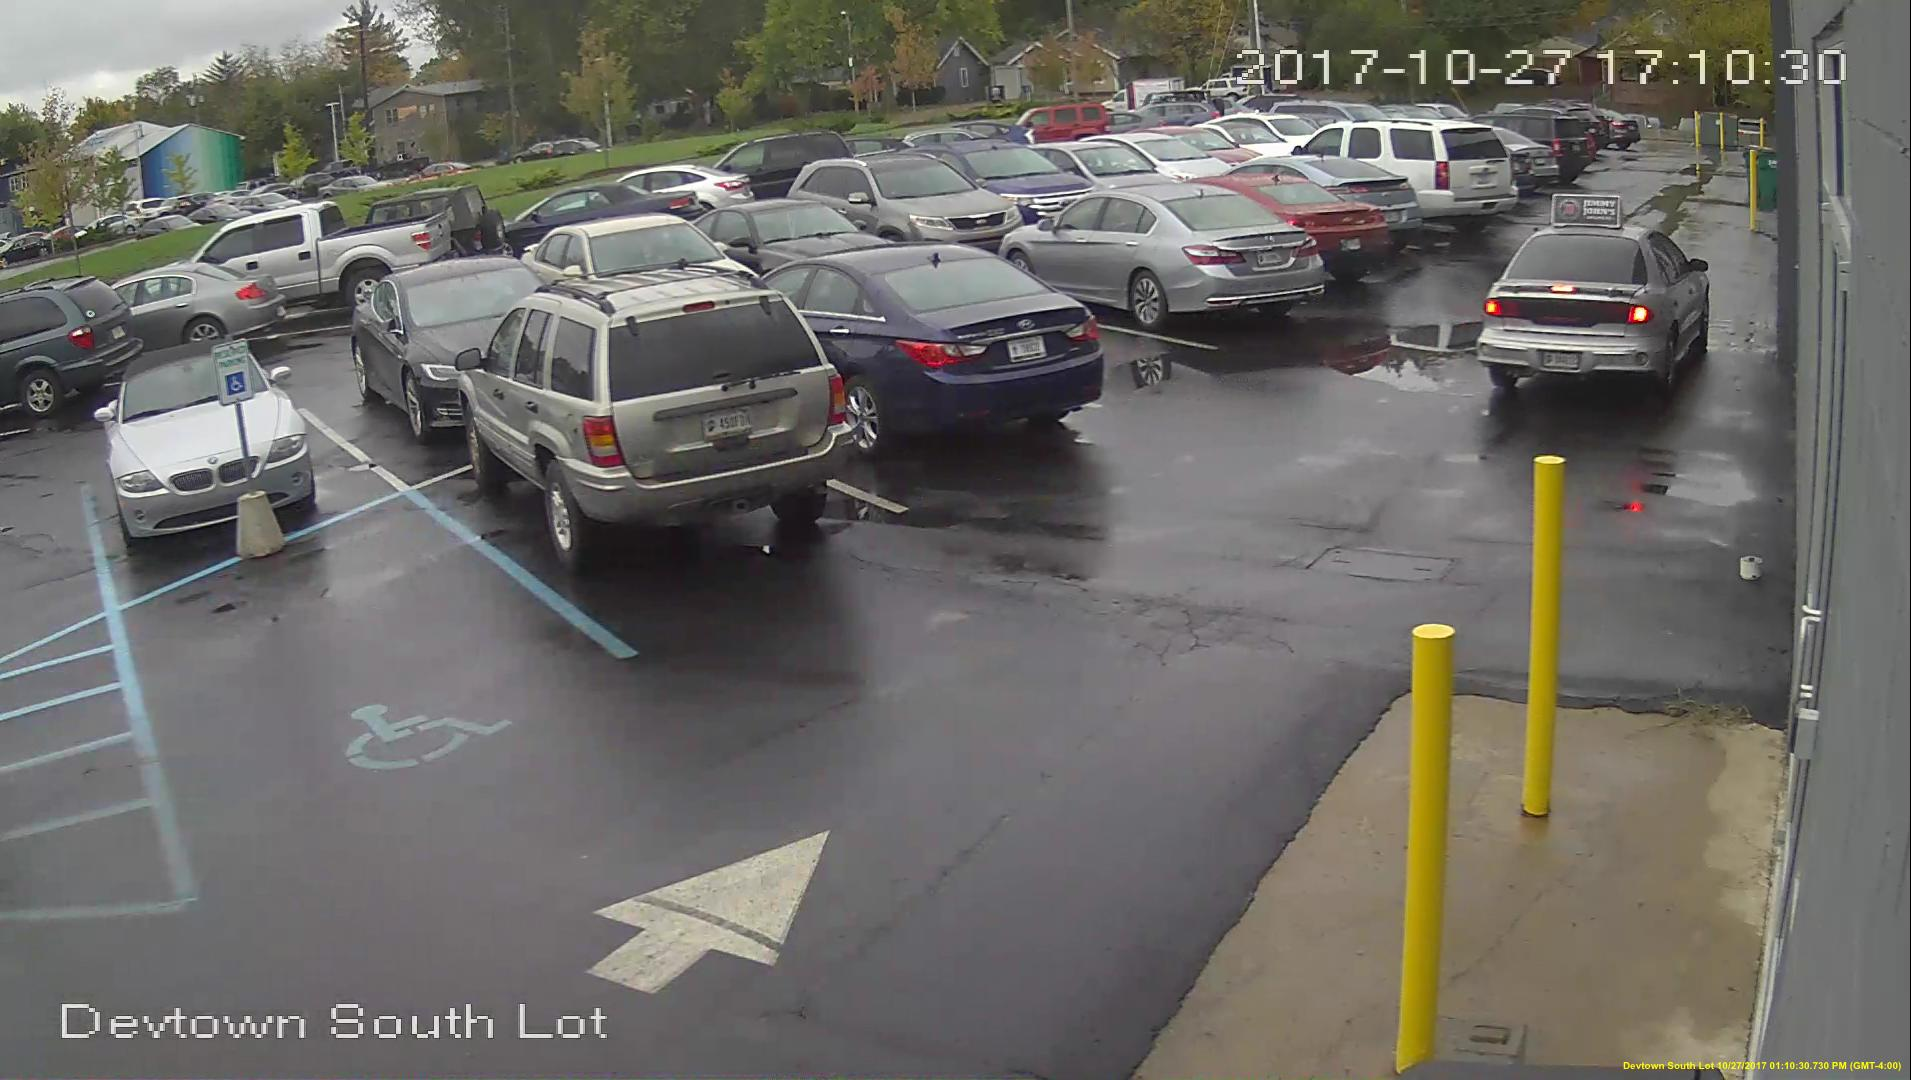jimmy_johns: (1550, 190, 1624, 227)
